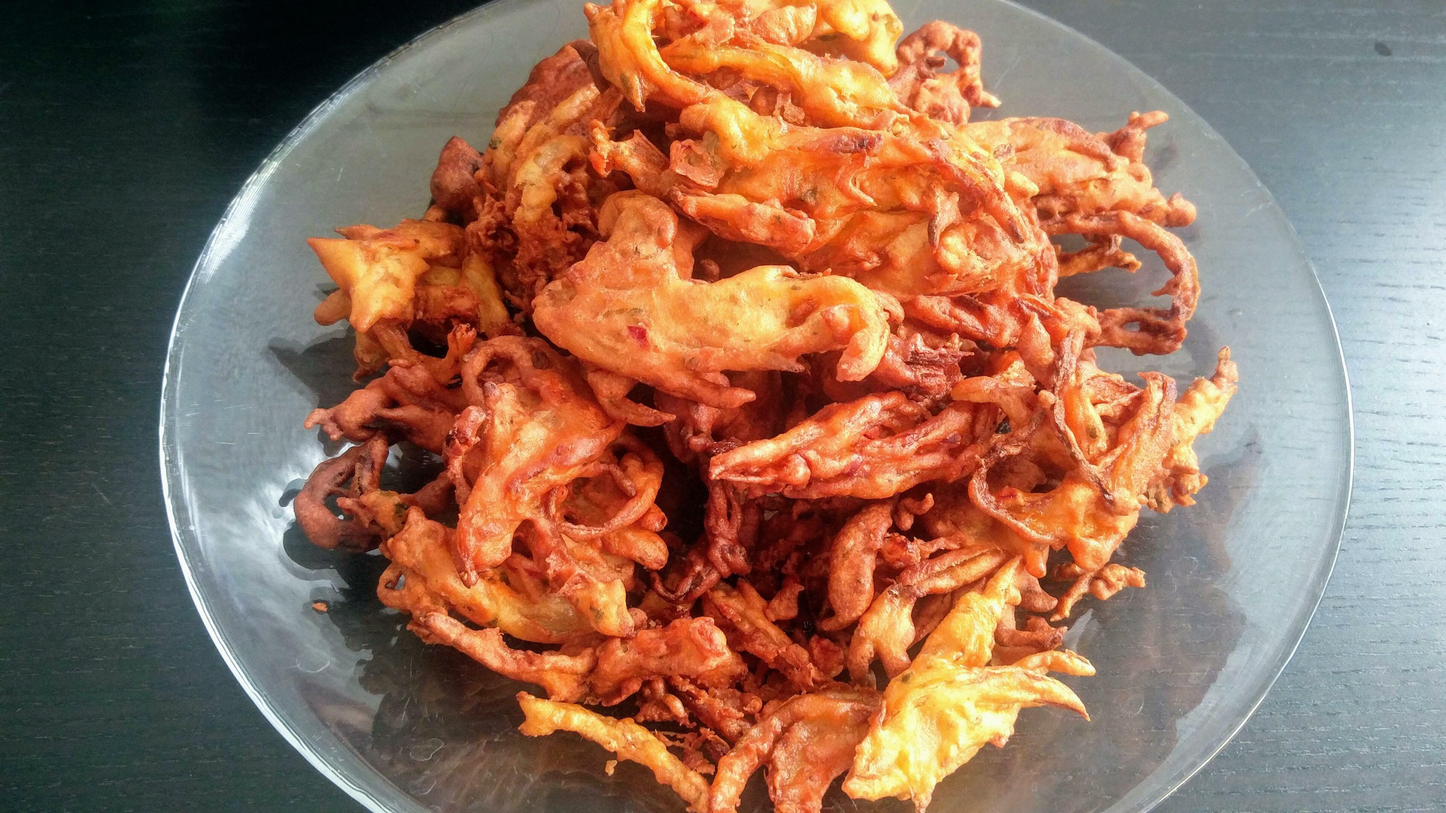OnionPakoda: (281, 0, 1239, 806)
